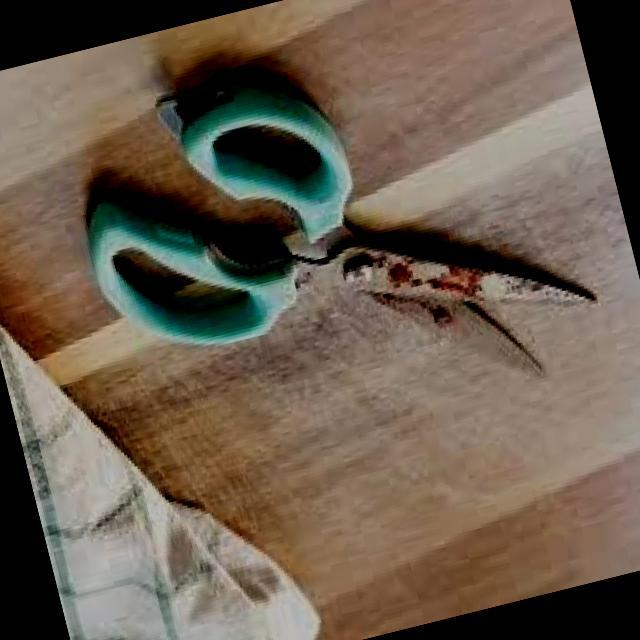Scissors: (30, 0, 640, 502)
